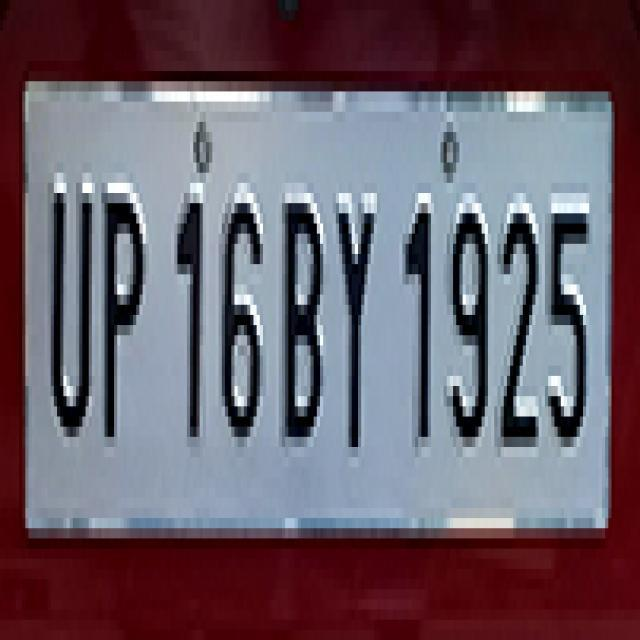1: (398, 176, 443, 460), (170, 173, 212, 458)
5: (545, 181, 594, 458)
6: (216, 173, 269, 464)
9: (447, 175, 495, 466)
B: (278, 179, 328, 463)
P: (98, 157, 148, 458)
U: (46, 169, 100, 456)
Y: (332, 179, 386, 466)
